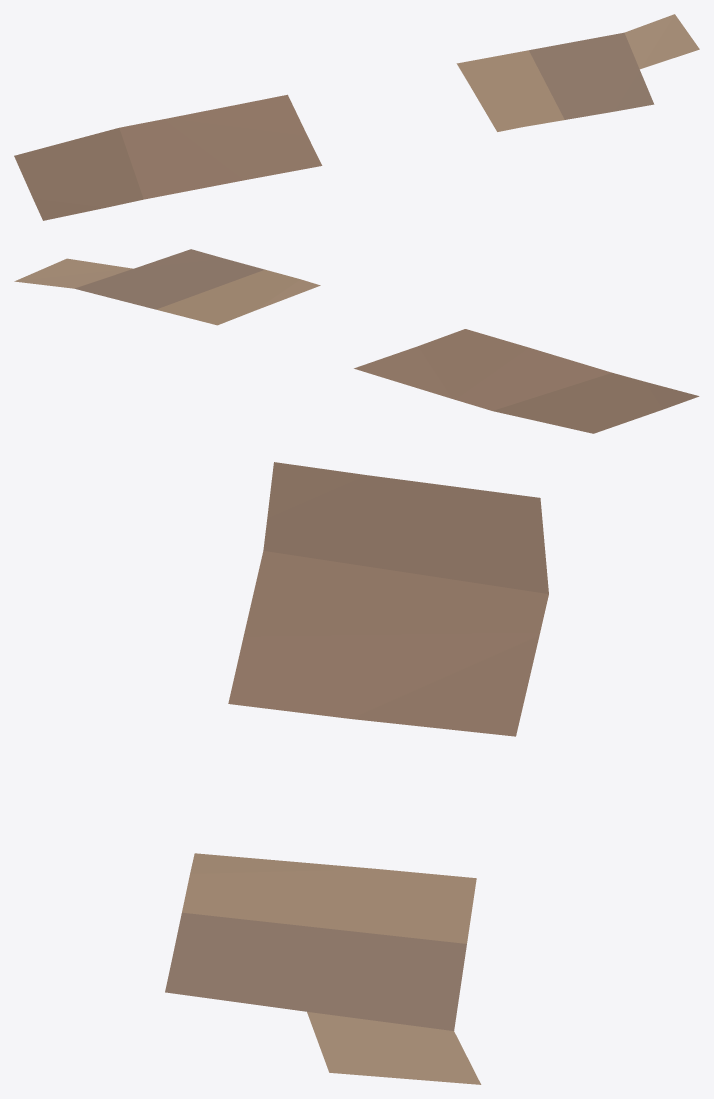
File: farm_26_25_soil.glb
3 views of the same model, one above another, from view 1: azimuth 30°, elevation 25°; view 2: azimuth 150°, elevation 25°; view 3: azimuth 270°, elevation 25° (orthographic). The views are drawn at different scales.
Visible parts, largest first — view 1: geometry_0; view 2: geometry_0; view 3: geometry_0.
Part boxes in pixels (x1,y1,x2,y2): geometry_0: (14,14,699,220); geometry_0: (14,249,699,433); geometry_0: (165,462,548,1084).
Size of the model in its own units: 210 by 1.95 by 54.97.
